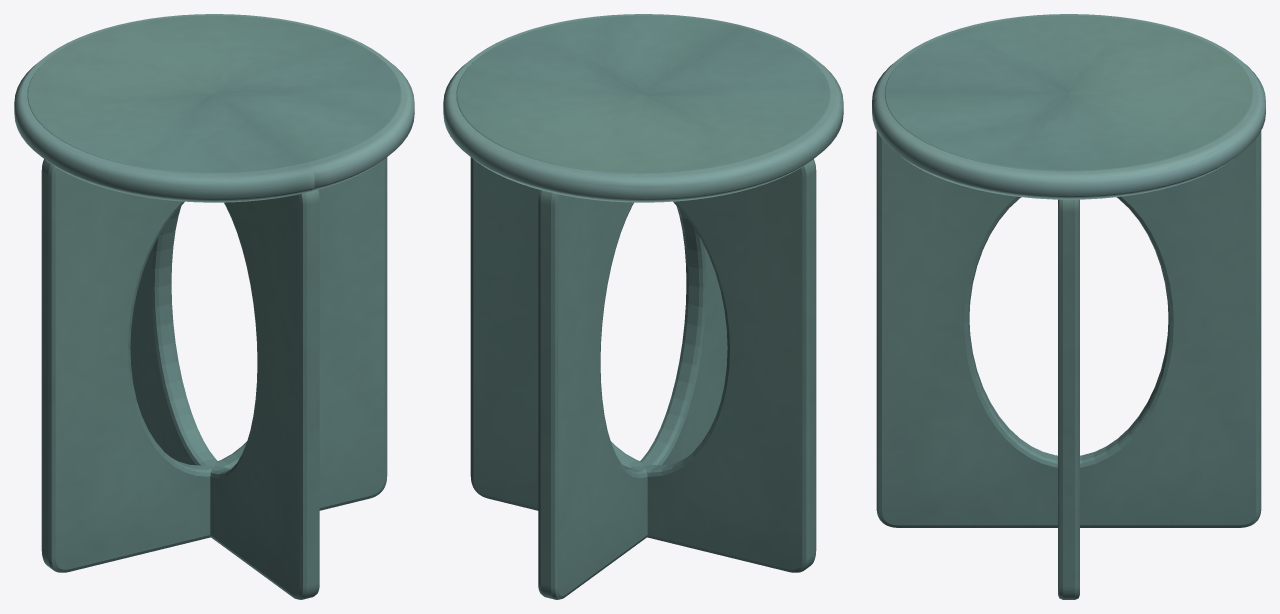
Rendered from hp-a475-ar-pla-tb-02.glb.
3 views of the same model, side by side, from view 1: azimuth 30°, elevation 25°; view 2: azimuth 150°, elevation 25°; view 3: azimuth 270°, elevation 25° (orthographic).
Parts seen in each view (by area): view 1: cream (×3), primary; view 2: cream (×3), primary; view 3: cream (×3), primary.
Part boxes in pixels (x1=…): cream (×3): x1=27, y1=15, x2=401, y2=599; primary: x1=14, y1=14, x2=414, y2=202; cream (×3): x1=456, y1=15, x2=830, y2=599; primary: x1=443, y1=14, x2=843, y2=202; cream (×3): x1=876, y1=15, x2=1261, y2=599; primary: x1=872, y1=14, x2=1265, y2=199.
Bounding box in the file's own units: 0.38 × 0.46 × 0.38.
Materials: 2 (2 with a texture image).
